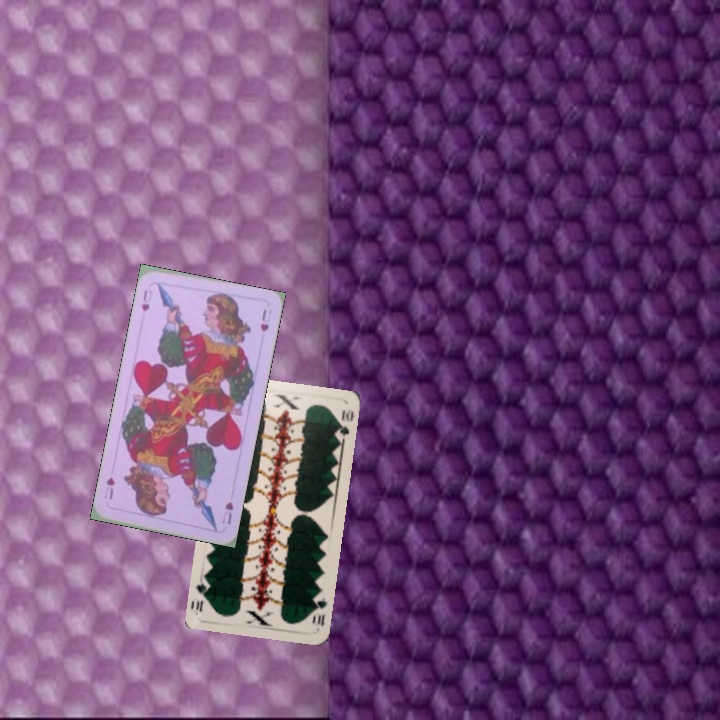G10: (308, 594, 329, 629)
HU: (218, 498, 236, 527), (138, 286, 152, 314)
